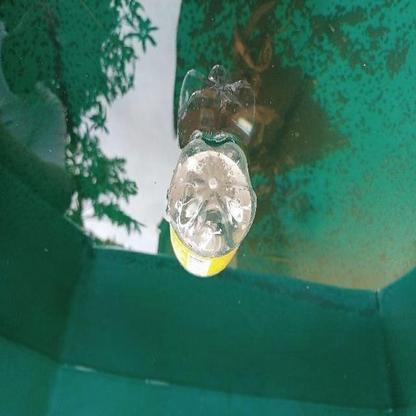plastic bottle: (165, 140, 257, 278)
